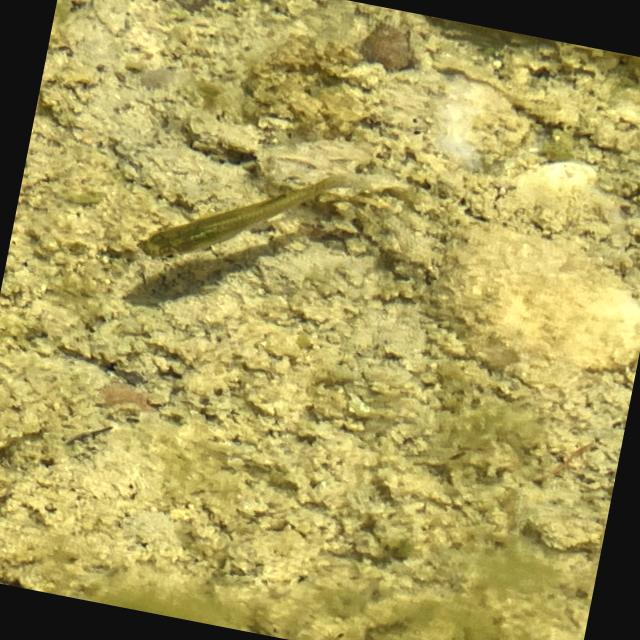Sivrisinek Baligi: (127, 121, 398, 312)
